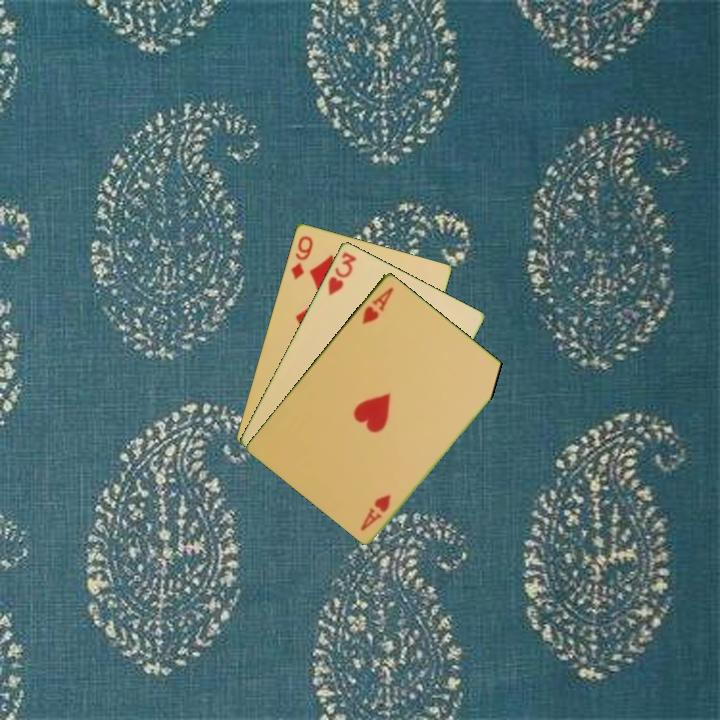3h: (324, 248, 360, 298)
9d: (287, 232, 316, 282)
Ah: (359, 283, 397, 327), (356, 490, 394, 533)
